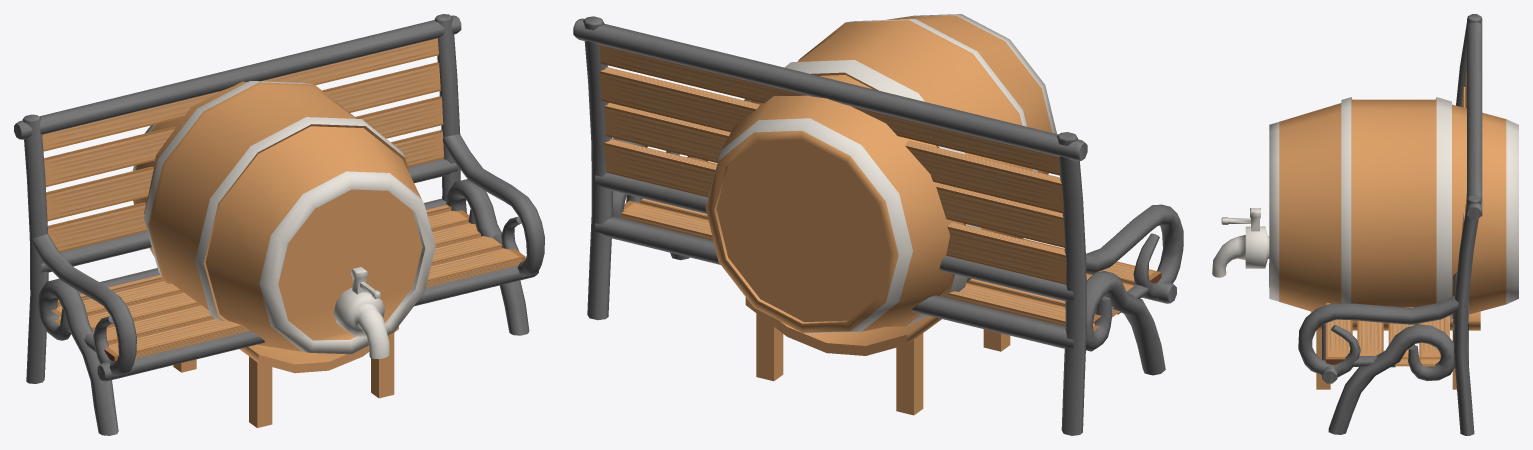
The model's file is IronBenchHand.fbx.
3 renders of one model, left to right at view 1: azimuth 30°, elevation 25°; view 2: azimuth 150°, elevation 25°; view 3: azimuth 270°, elevation 25°, orthographic. The views are drawn at different scales.
Parts seen in each view (by area): view 1: Bin (1), Keg (1); view 2: Bin (1), Keg (1); view 3: Keg (1), Bin (1).
Part boxes in pixels (x1=…): Bin (1): x1=14, y1=14, x2=544, y2=435; Keg (1): x1=132, y1=81, x2=435, y2=427; Bin (1): x1=573, y1=16, x2=1183, y2=435; Keg (1): x1=705, y1=14, x2=1056, y2=415; Keg (1): x1=1212, y1=97, x2=1518, y2=389; Bin (1): x1=1298, y1=14, x2=1482, y2=435.
Bounding box in the file's own units: 1.17 × 0.7139 × 0.7864.
